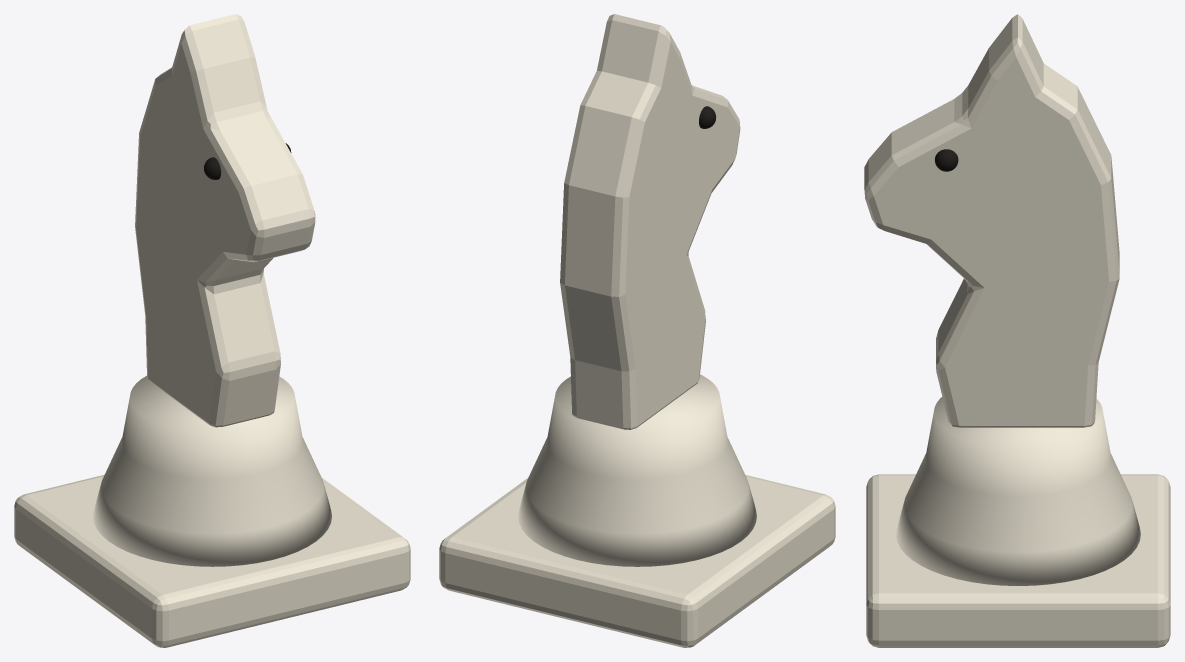
File: 4-springer.glb
3 renders of one model, left to right at view 1: azimuth 30°, elevation 25°; view 2: azimuth 150°, elevation 25°; view 3: azimuth 270°, elevation 25°, orthographic. The views are drawn at different scales.
Parts seen in each view (by area): view 1: Chess_White_Knight; view 2: Chess_White_Knight; view 3: Chess_White_Knight.
Part boxes in pixels (x1=…): Chess_White_Knight: x1=14, y1=14, x2=410, y2=647; Chess_White_Knight: x1=439, y1=14, x2=835, y2=647; Chess_White_Knight: x1=864, y1=14, x2=1170, y2=647.
Size of the model in its own units: 0.09 by 0.1836 by 0.0906.
